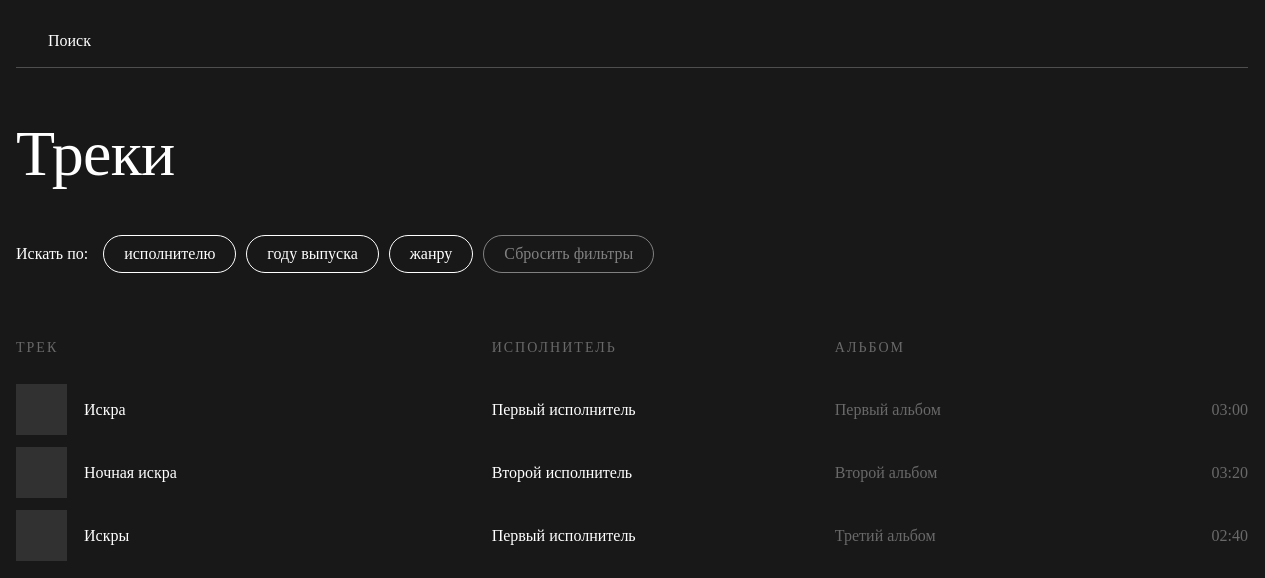
Test case: поиск обновляет список и очередь плеера, а очистка восстанавливает треки
The image size is (1265, 578).
Check: the number of buttons named "Воспроизвести " is 3, box [84, 398, 126, 422]; [84, 460, 177, 484]; [84, 524, 129, 548]
Type "  ИСК " into the search field named "Поиск треков".
click(643, 42); type("  ИСК ")  # box [38, 16, 1248, 67]
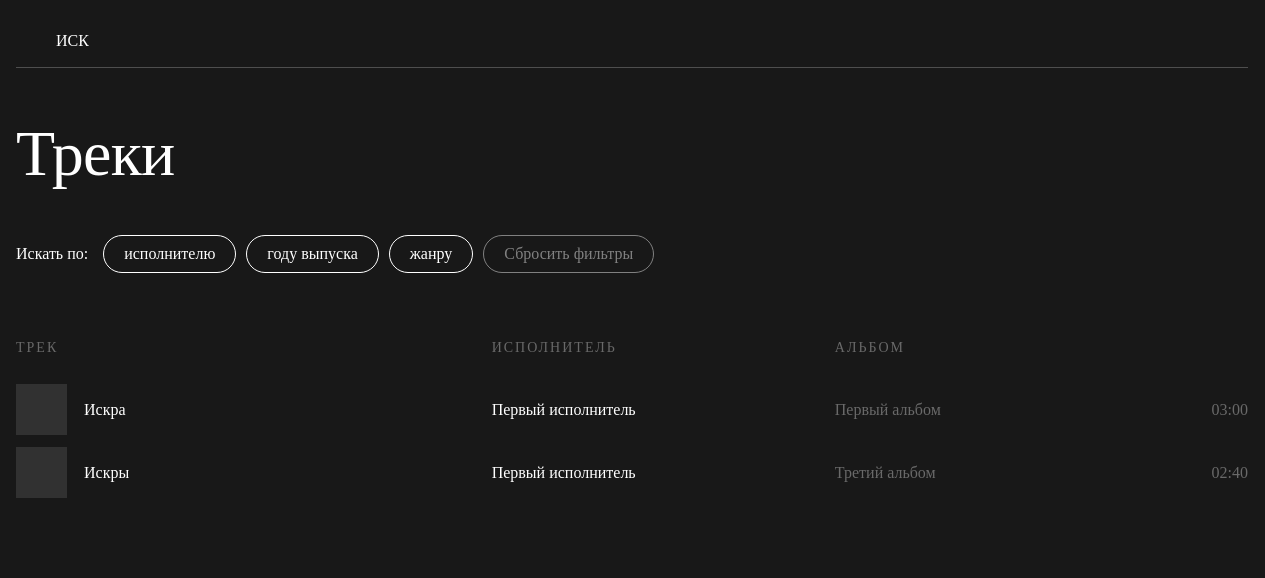
Check: the button with aria-label "Воспроизвести Искра" is shown, box [84, 398, 126, 422]
Check: the number of buttons named "Воспроизвести " is 2, box [84, 398, 126, 422]; [84, 460, 129, 484]
Replace the text in the search field named "Поиск треков" with "ничего" at (643, 42), box [38, 16, 1248, 67]
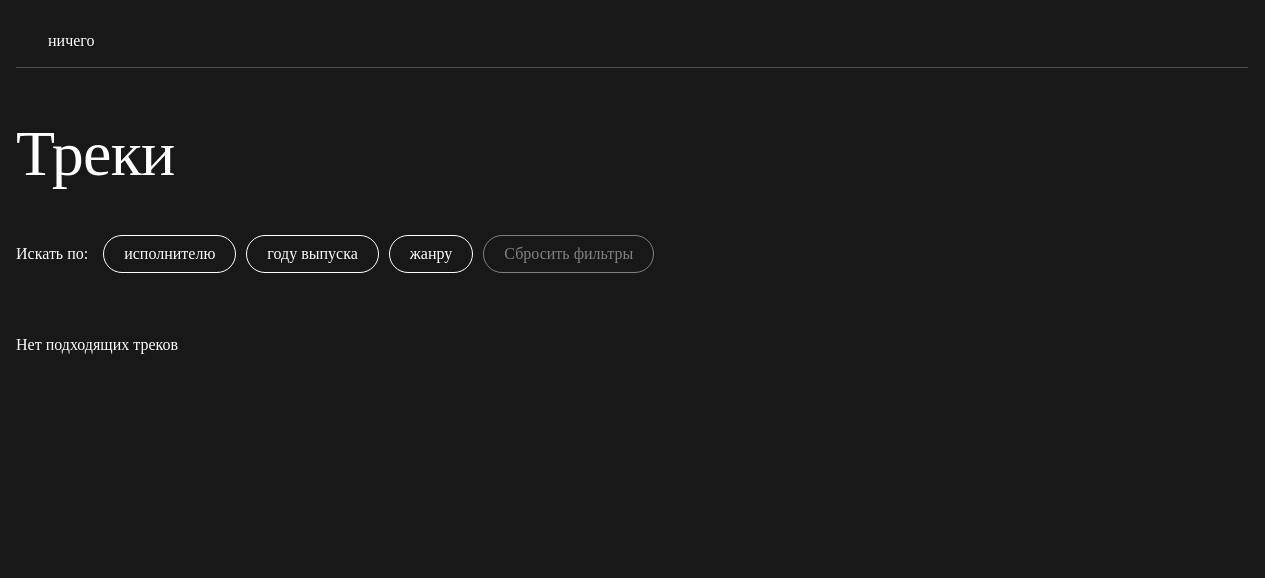
Check: the text "Нет подходящих треков" is shown, box [16, 336, 178, 353]
Clear the search field named "Поиск треков" at (643, 42), box [38, 16, 1248, 67]
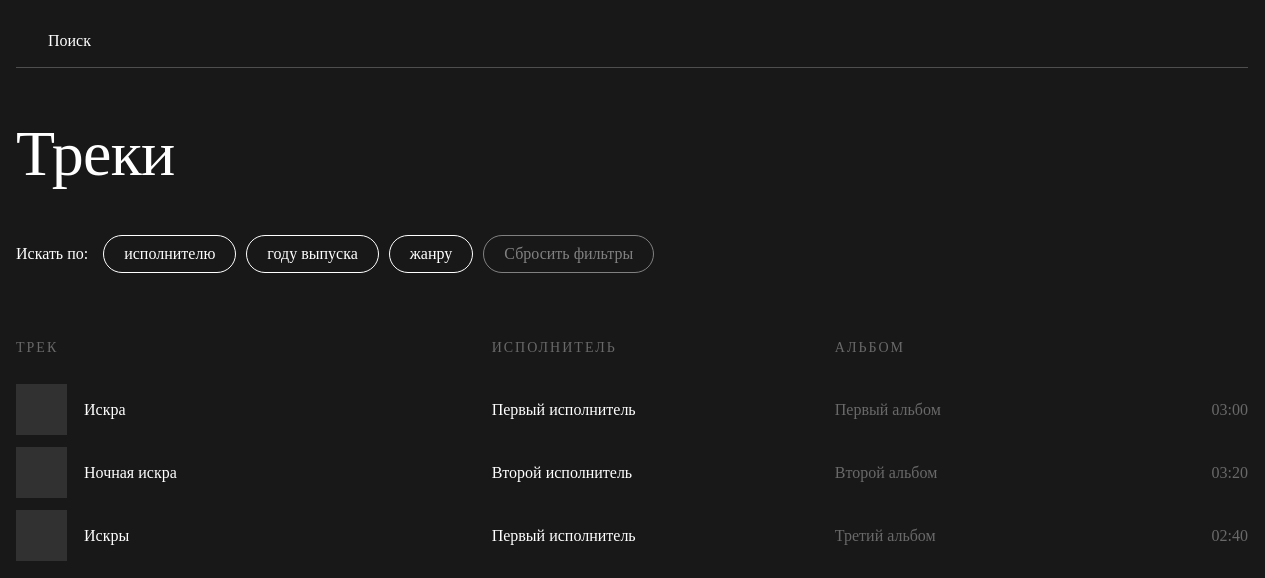
Check: the number of buttons named "Воспроизвести " is 3, box [84, 398, 126, 422]; [84, 460, 177, 484]; [84, 524, 129, 548]
